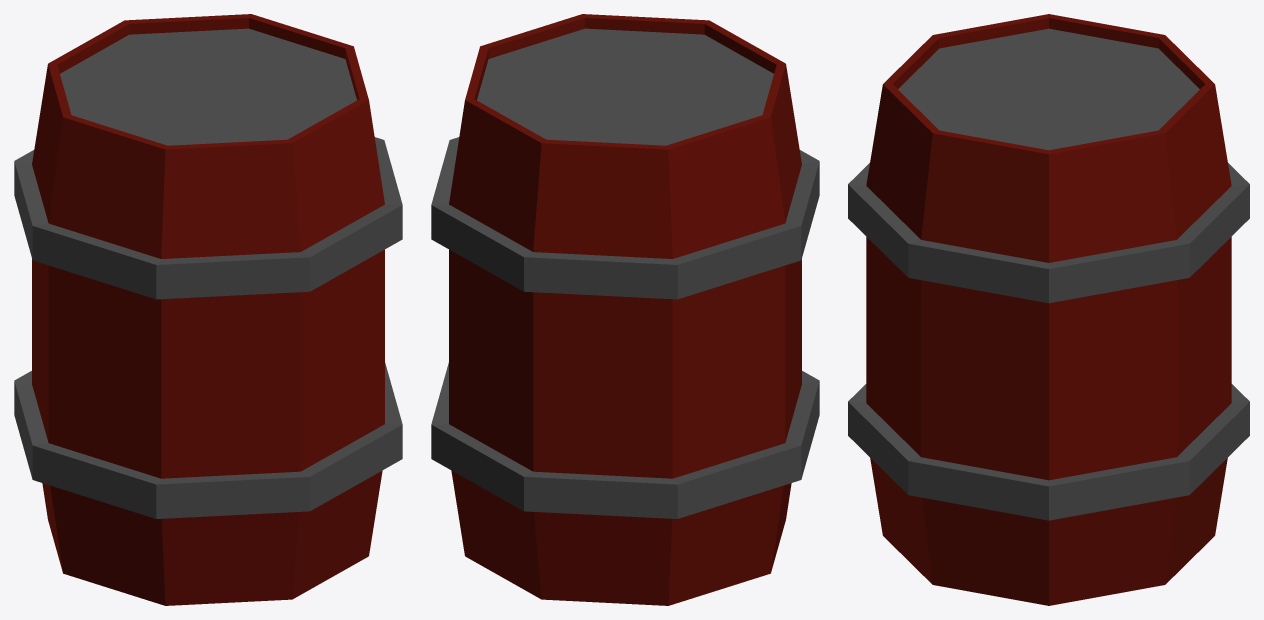
File: red barrel.fbx
3 renders of one model, left to right at view 1: azimuth 30°, elevation 25°; view 2: azimuth 150°, elevation 25°; view 3: azimuth 270°, elevation 25°, orthographic.
Visible parts, largest first — view 1: Plane; view 2: Plane; view 3: Plane.
Part boxes in pixels (left/top/right/bottom): Plane: left=14, top=14, right=402, bottom=605; Plane: left=431, top=14, right=819, bottom=605; Plane: left=848, top=14, right=1249, bottom=605.
Bounding box in the file's own units: 242 × 300 × 242.
